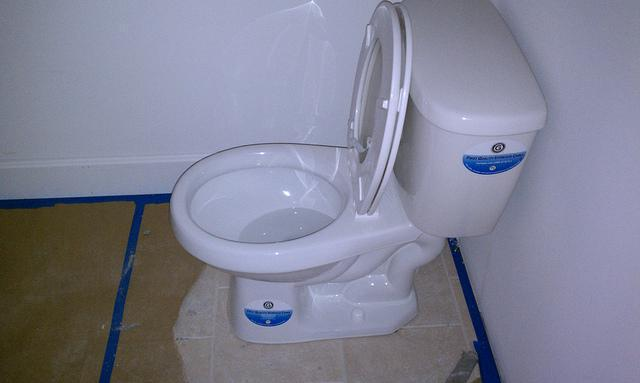Sanitario: (167, 7, 552, 348)
